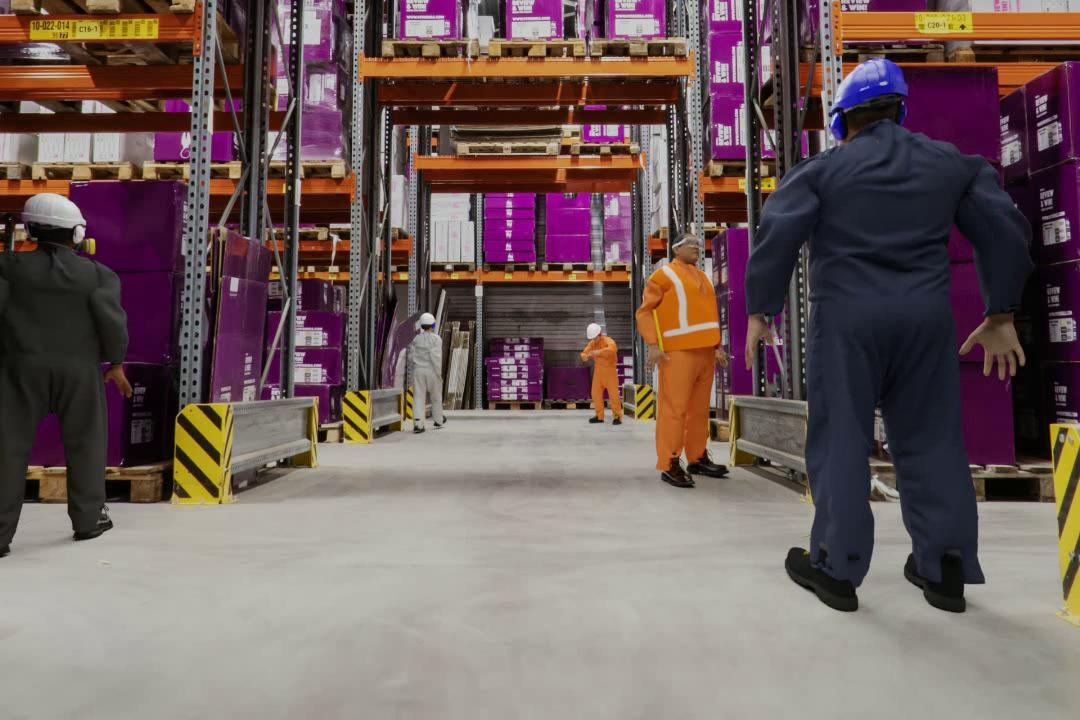Goggles: (670, 239, 707, 252)
Helmet: (843, 34, 921, 106), (22, 189, 85, 233), (404, 303, 436, 325), (586, 322, 602, 339)
Jacket: (634, 267, 737, 352)
Shoes: (782, 541, 863, 615), (893, 544, 980, 608), (654, 450, 694, 496), (69, 508, 120, 543), (686, 446, 739, 475), (411, 413, 429, 439), (588, 412, 605, 426), (433, 413, 448, 428), (611, 414, 623, 427), (389, 442, 391, 444)
